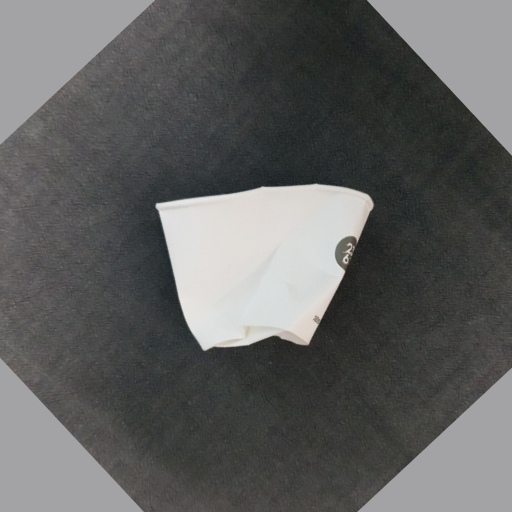Paper_1: (153, 181, 378, 356)
